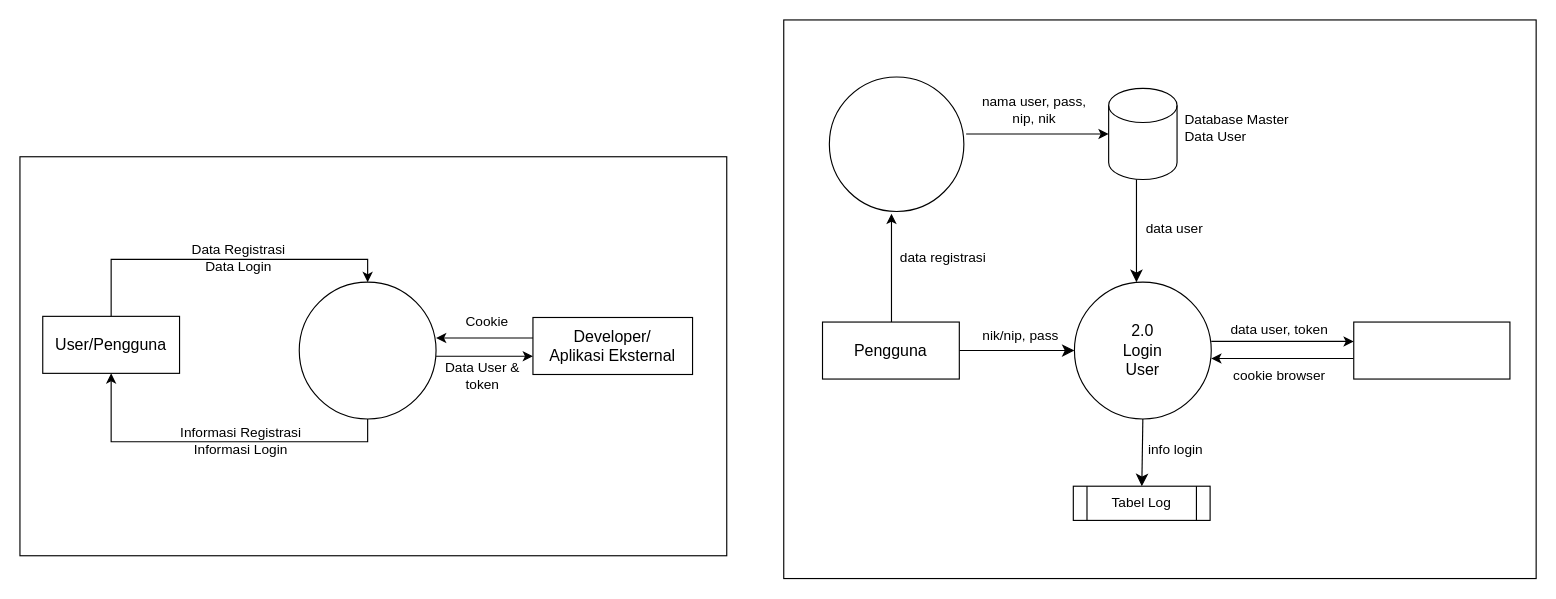
This 1556x599 diagram has some shape labels left out. Here are the shapes that lost their labels. From the top down, the centre of each, then its label:
point (896, 143): 1.0 Registrasi User
point (367, 350): Sistem SSO
point (1431, 350): Aplikasi Eksternal
